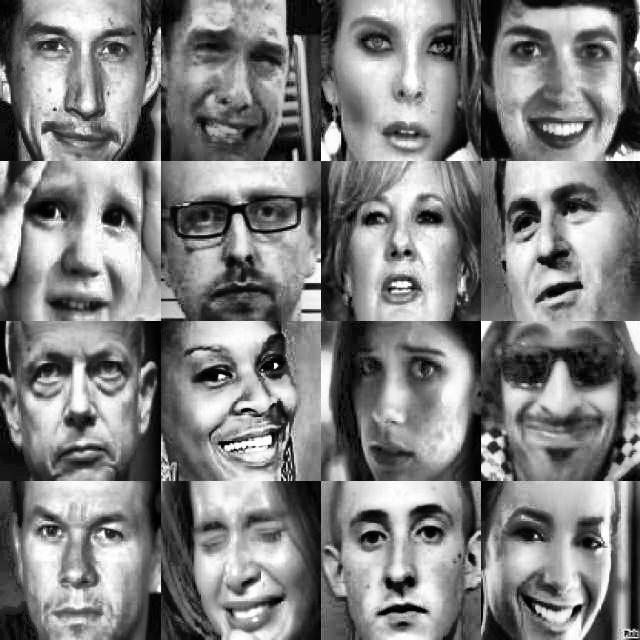angry: (21, 335, 137, 478), (22, 490, 133, 630)
fear: (336, 328, 458, 470)
happy: (496, 325, 619, 476), (494, 15, 625, 153), (22, 9, 140, 153), (496, 495, 613, 638), (180, 328, 296, 472), (495, 173, 607, 316)
neutral: (167, 178, 307, 314), (338, 492, 462, 634), (346, 9, 463, 153), (349, 180, 452, 314)
sad: (18, 172, 141, 316), (186, 490, 300, 638), (178, 17, 290, 151)
